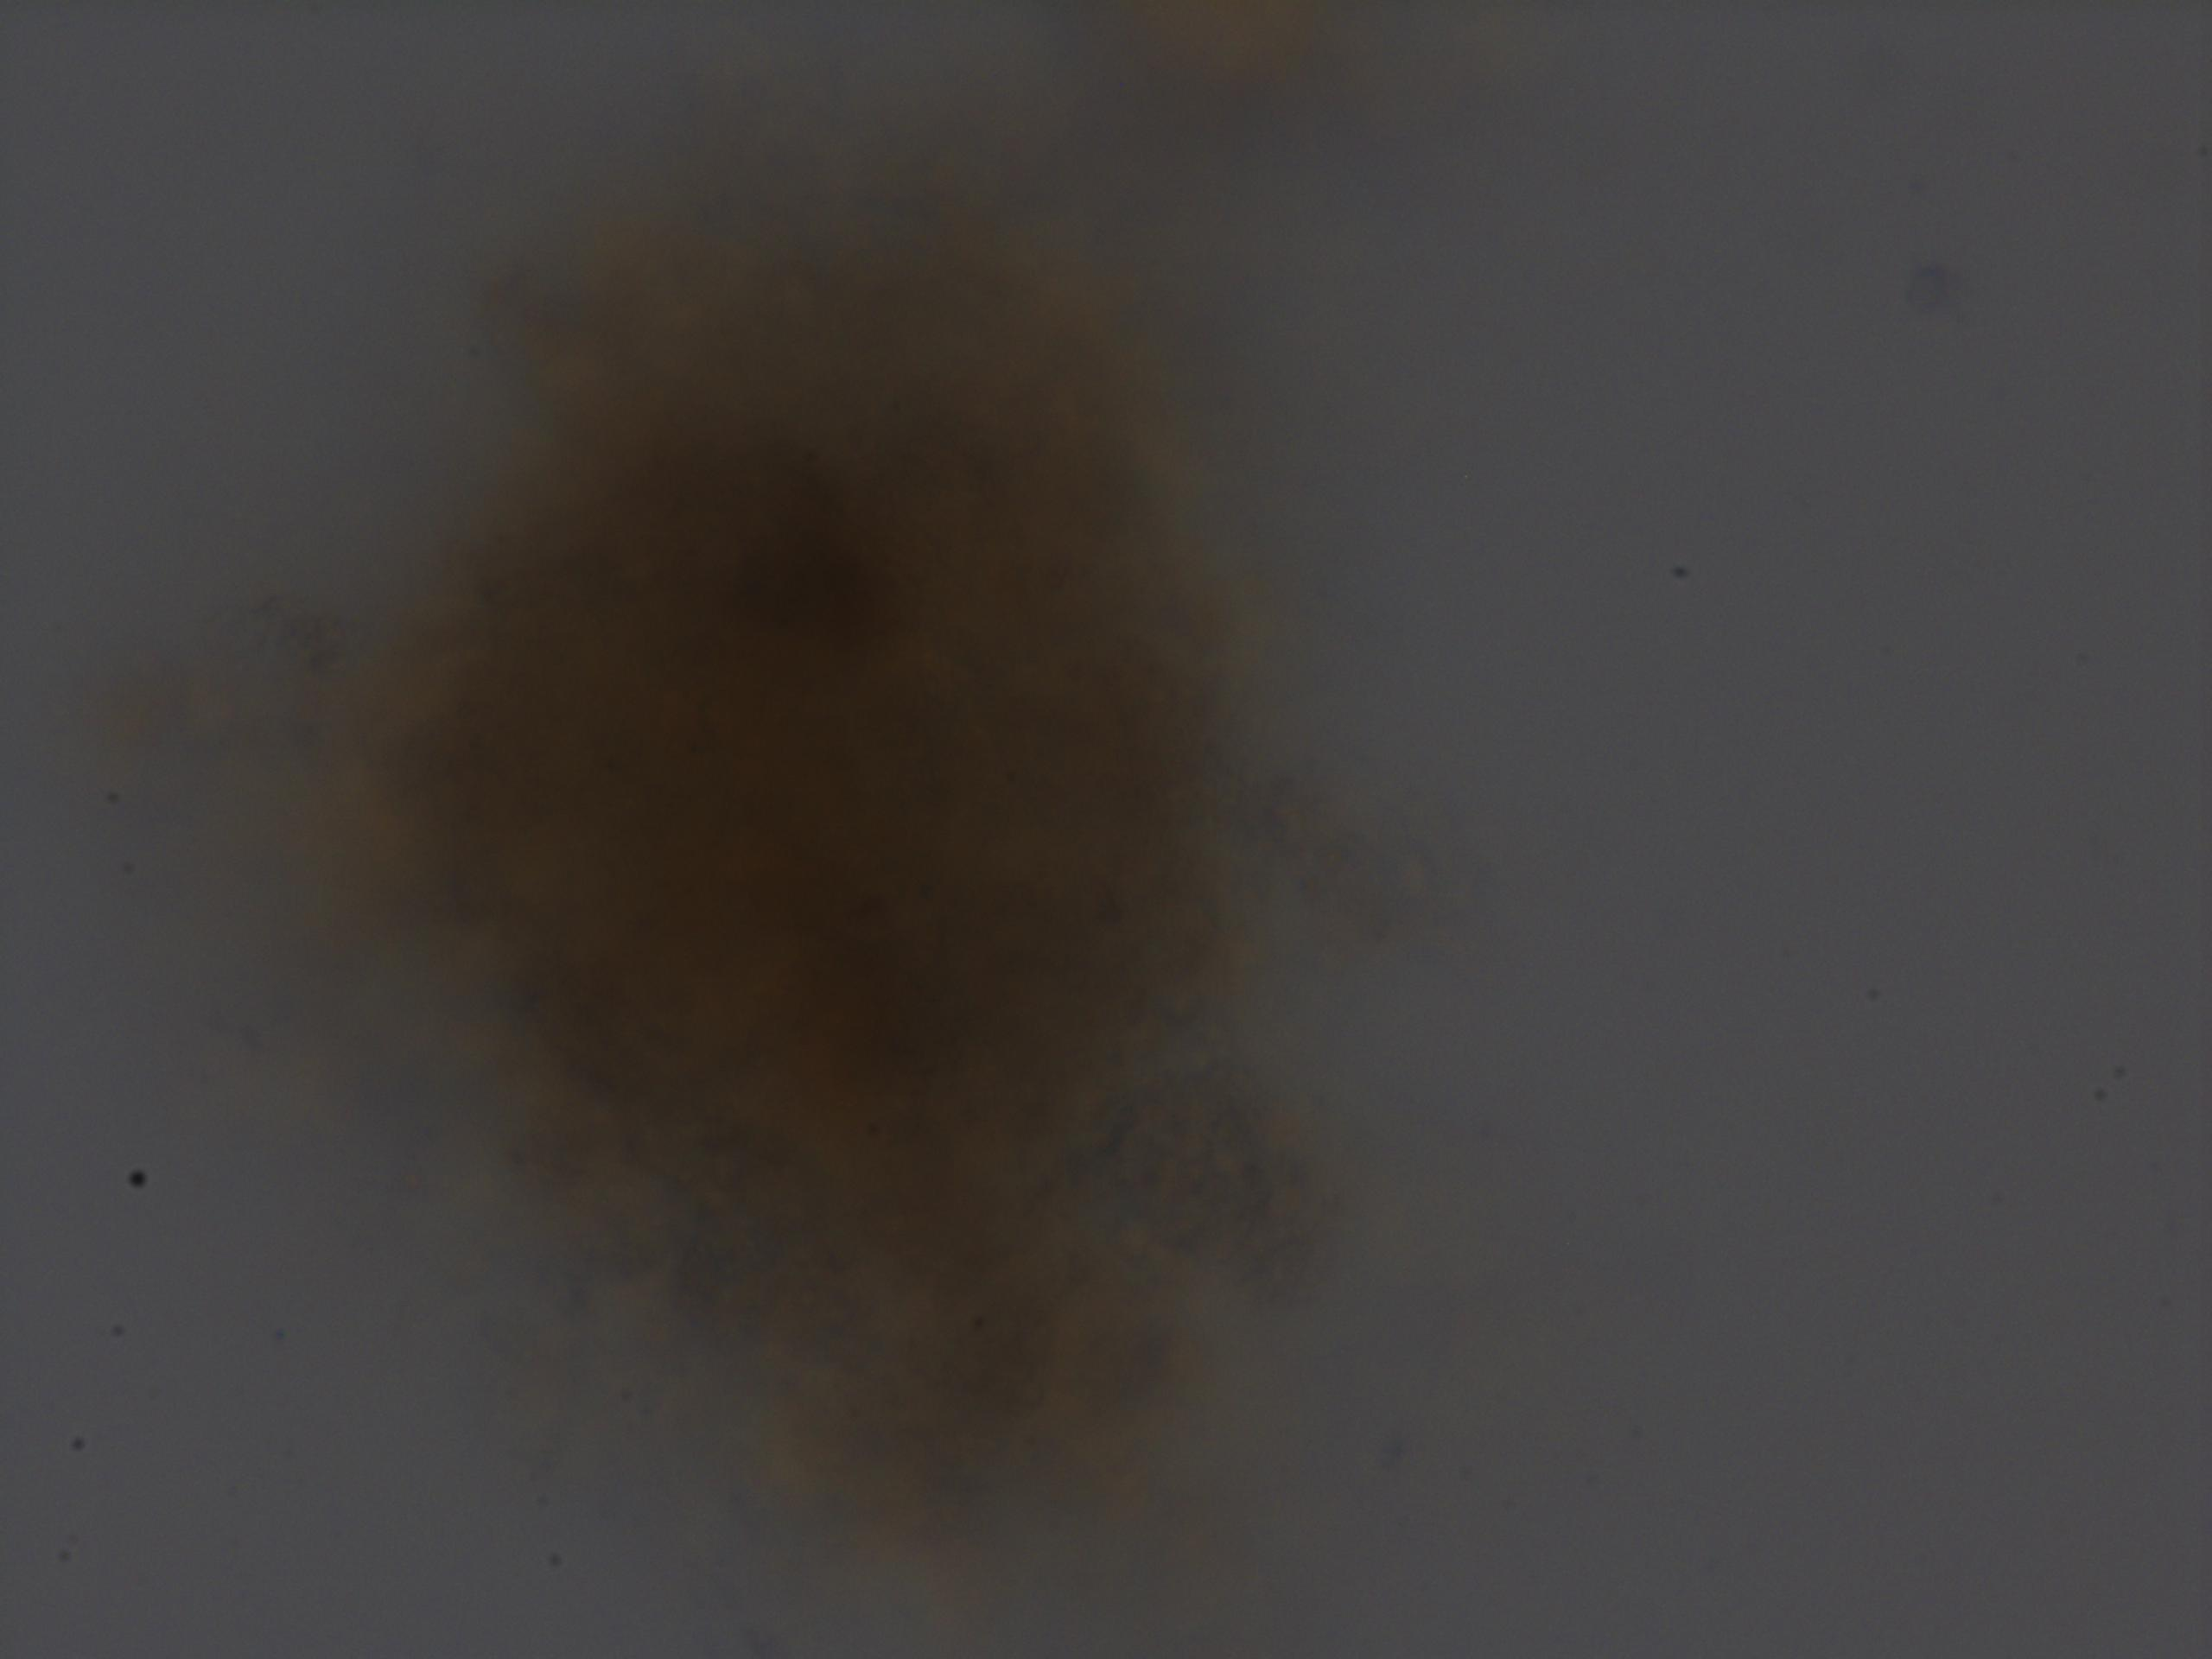spherical_floc: (322, 193, 1329, 1511)
